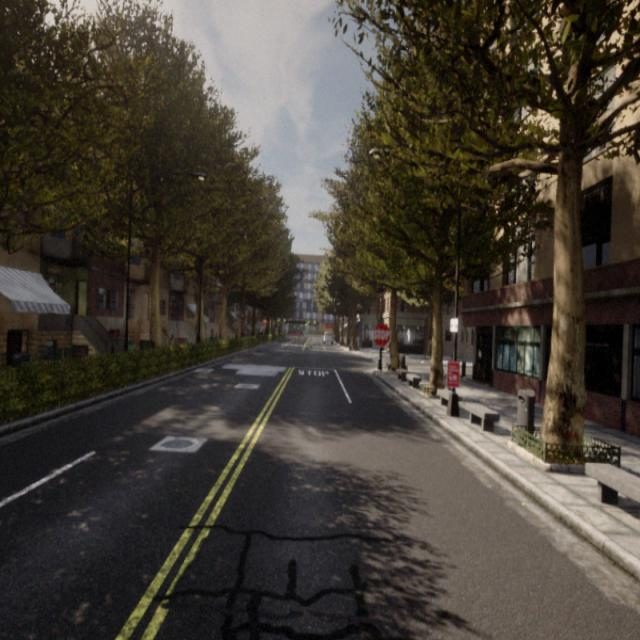stop sign: (370, 320, 392, 348)
